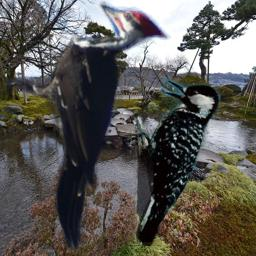Woodpecker: (1, 1, 171, 253), (124, 77, 223, 246)
